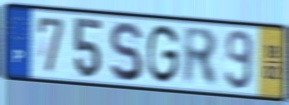5: (72, 15, 104, 81)
7: (36, 15, 65, 75)
9: (224, 28, 254, 93)
G: (145, 23, 181, 86)
R: (182, 24, 219, 90)
S: (107, 19, 144, 84)
